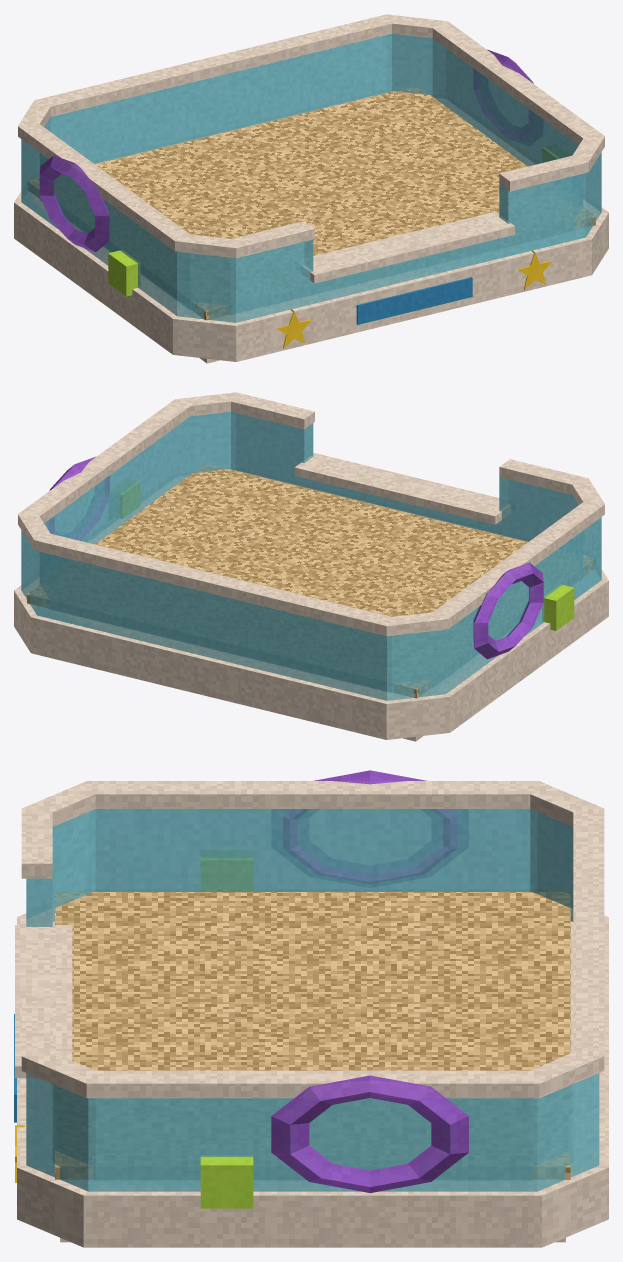
The model's file is litter_box.glb.
The picture shows the model from 3 angles, top to bottom: view 1: azimuth 30°, elevation 25°; view 2: azimuth 150°, elevation 25°; view 3: azimuth 270°, elevation 25°; orthographic projection. The views are drawn at different scales.
Visible parts, largest first — view 1: Wall, Litter, Base, Rim, EntranceRim, Handle, Groove, Clip, Handle.001, Star, Star.001; view 2: Wall, Litter, Base, Rim, EntranceRim, Handle, Clip, Handle.001, Clip.001; view 3: Litter, Wall, Rim, Base, Handle.001, EntranceRim, Handle, Clip.001, Clip.
Part boxes in pixels (x1,y1,x2,y2): Wall: (21,33,601,322); Litter: (29,86,595,320); Base: (14,92,608,363); Rim: (18,14,604,258); EntranceRim: (301,211,515,283); Handle: (39,155,109,252); Groove: (356,277,472,324); Clip: (108,250,140,296); Handle.001: (473,49,533,141); Star: (276,309,311,348); Star.001: (517,250,552,289); Wall: (21,411,601,700); Litter: (27,464,593,698); Base: (14,470,608,741); Rim: (18,392,604,636); EntranceRim: (294,453,510,524); Handle: (473,562,543,659); Clip: (542,584,574,630); Handle.001: (49,456,109,540); Clip.001: (120,481,140,518); Litter: (55,892,570,1179); Wall: (26,809,599,1191); Rim: (21,781,604,1098); Base: (17,907,608,1247); Handle.001: (271,1075,468,1192); EntranceRim: (15,925,72,1078); Handle: (283,770,456,883); Clip.001: (200,1155,253,1208); Clip: (201,858,252,891).
Size of the model in its own units: 7.82 by 2.13 by 6.23.
7 materials, 7 textured.
